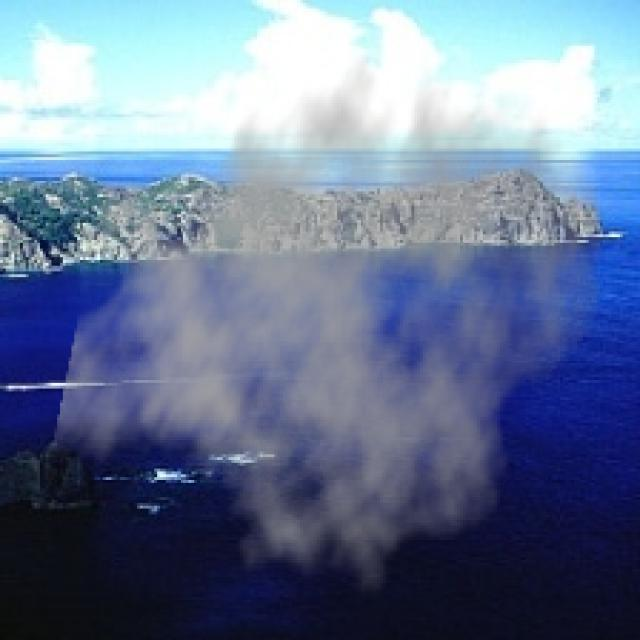smoke: (51, 32, 608, 597)
